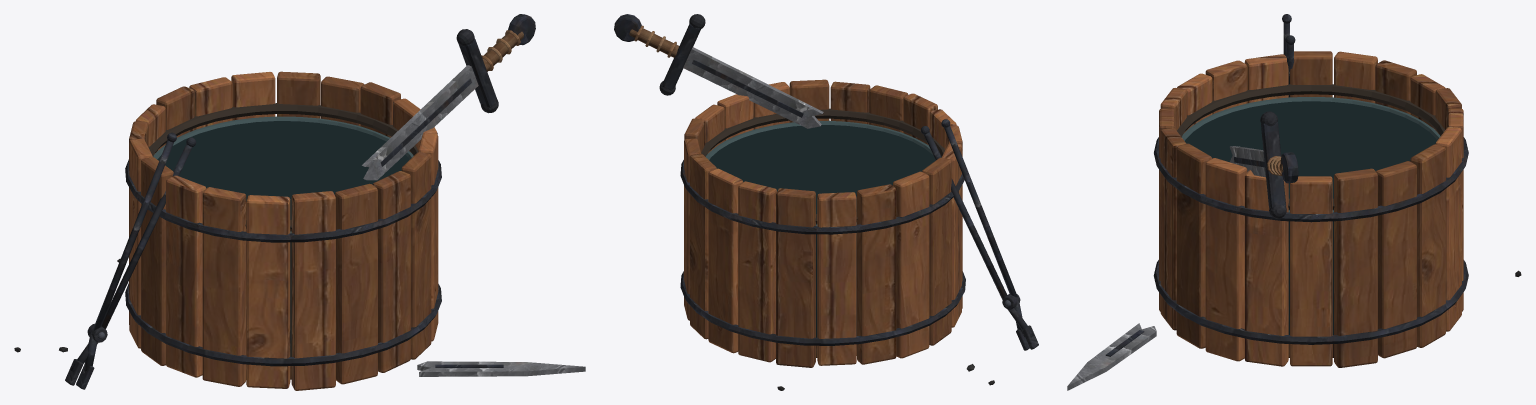
Rendered from ef_cracked_quench.glb.
The picture shows the model from 3 angles, left to right: view 1: azimuth 30°, elevation 25°; view 2: azimuth 150°, elevation 25°; view 3: azimuth 270°, elevation 25°; orthographic projection. The views are drawn at different scales.
Visible parts, largest first — view 1: model; view 2: model; view 3: model.
Boxes of the visible parts, box(x1,y1,x2,y2) form: model: box(14, 14, 585, 390); model: box(614, 14, 1038, 390); model: box(1067, 14, 1521, 390).
Bounding box in the file's own units: 1.19 × 0.6644 × 1.01.
Materials: 15 (9 with a texture image).
